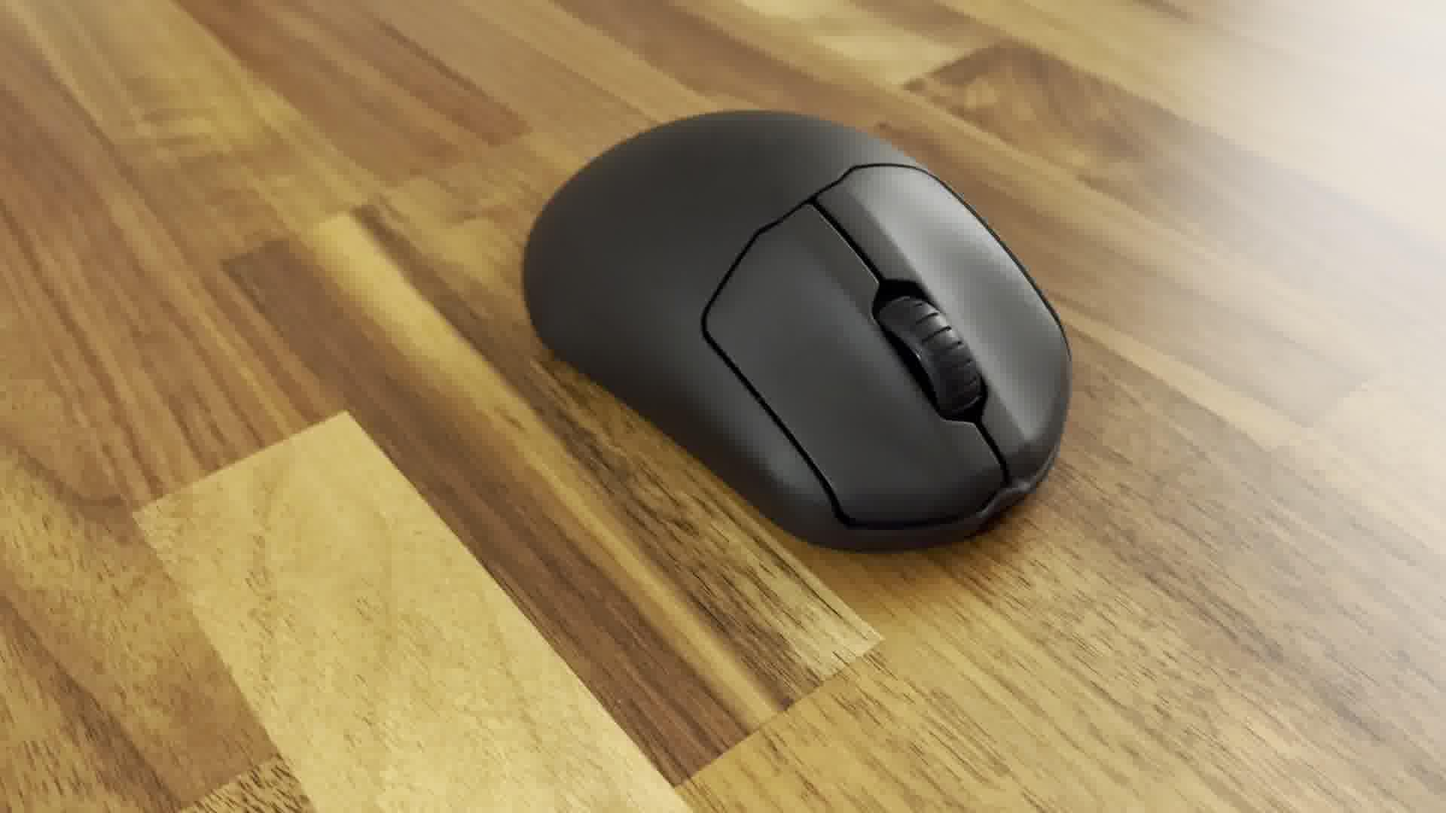mouse: (517, 102, 1080, 554)
